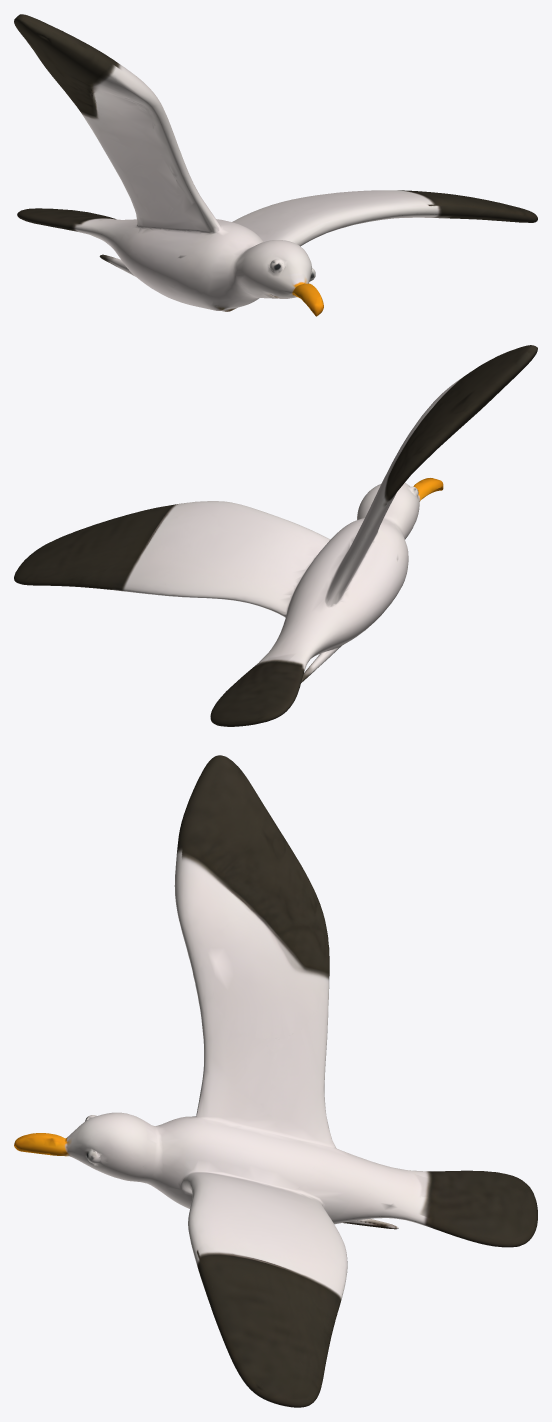
File: seagull.glb
3 renders of one model, top to bottom at view 1: azimuth 30°, elevation 25°; view 2: azimuth 150°, elevation 25°; view 3: azimuth 270°, elevation 25°, orthographic. The views are drawn at different scales.
Parts seen in each view (by area): view 1: node_0; view 2: node_0; view 3: node_0.
Part boxes in pixels (left/top/right/bottom): node_0: left=14, top=14, right=537, bottom=316; node_0: left=14, top=345, right=537, bottom=726; node_0: left=14, top=755, right=537, bottom=1407.
Bounding box in the file's own units: 1 × 0.6431 × 0.7992.
1 material, 1 textured.
